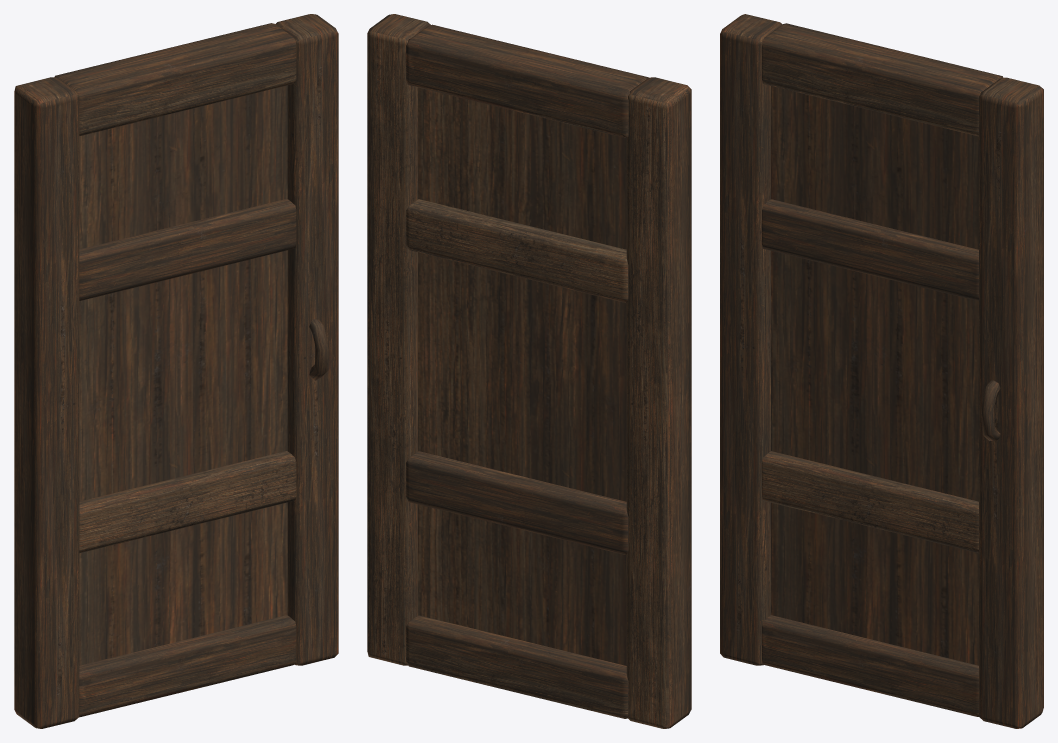
File: SM_Door.fbx
3 renders of one model, left to right at view 1: azimuth 30°, elevation 25°; view 2: azimuth 150°, elevation 25°; view 3: azimuth 330°, elevation 25°, orthographic.
Parts seen in each view (by area): view 1: SM_Door_LOD0; view 2: SM_Door_LOD0; view 3: SM_Door_LOD0.
Boxes of the visible parts, <box> form: SM_Door_LOD0: <box>14,14,338,728</box>; SM_Door_LOD0: <box>367,14,691,728</box>; SM_Door_LOD0: <box>720,14,1043,728</box>.
Size of the model in its own units: 101 by 21.57 by 200.
